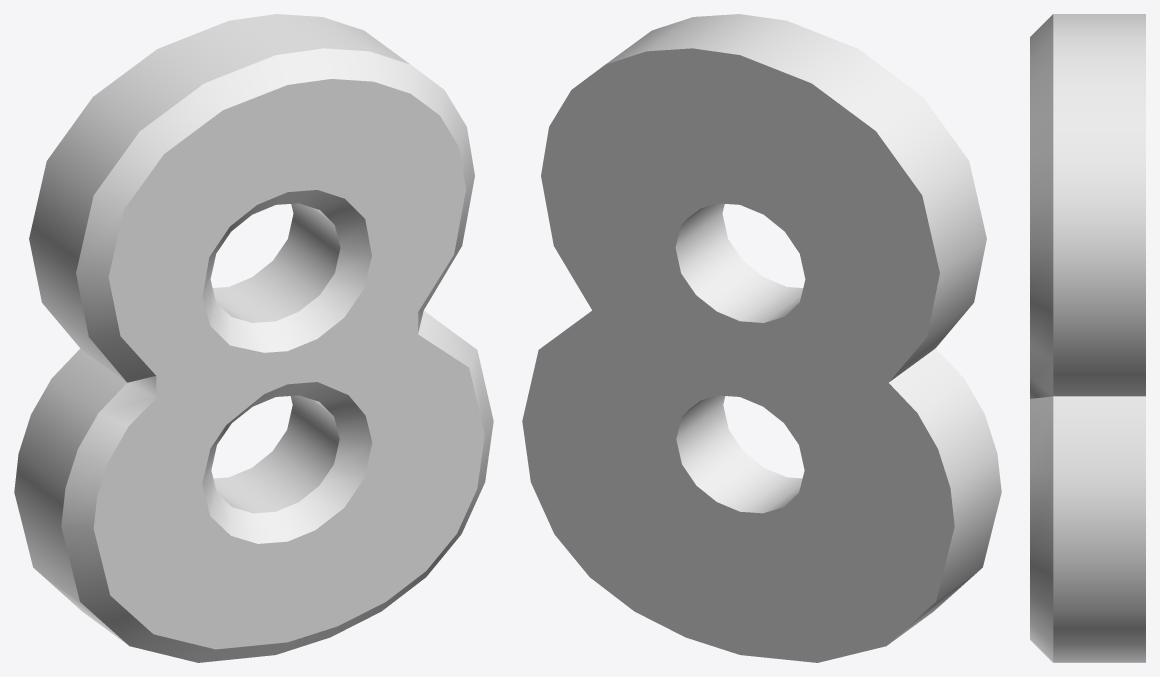
File: LettersStylized01_8.FBX
The picture shows the model from 3 angles, left to right: view 1: azimuth 30°, elevation 25°; view 2: azimuth 150°, elevation 25°; view 3: azimuth 270°, elevation 25°; orthographic projection.
Parts seen in each view (by area): view 1: LettersStylized01_8; view 2: LettersStylized01_8; view 3: LettersStylized01_8.
Boxes of the visible parts, bbox=[...] form: LettersStylized01_8: bbox=[14, 14, 493, 662]; LettersStylized01_8: bbox=[522, 14, 1001, 662]; LettersStylized01_8: bbox=[1030, 14, 1145, 662].
Size of what is drawn, in the model's own units: 0.353 by 0.468 by 0.083.
